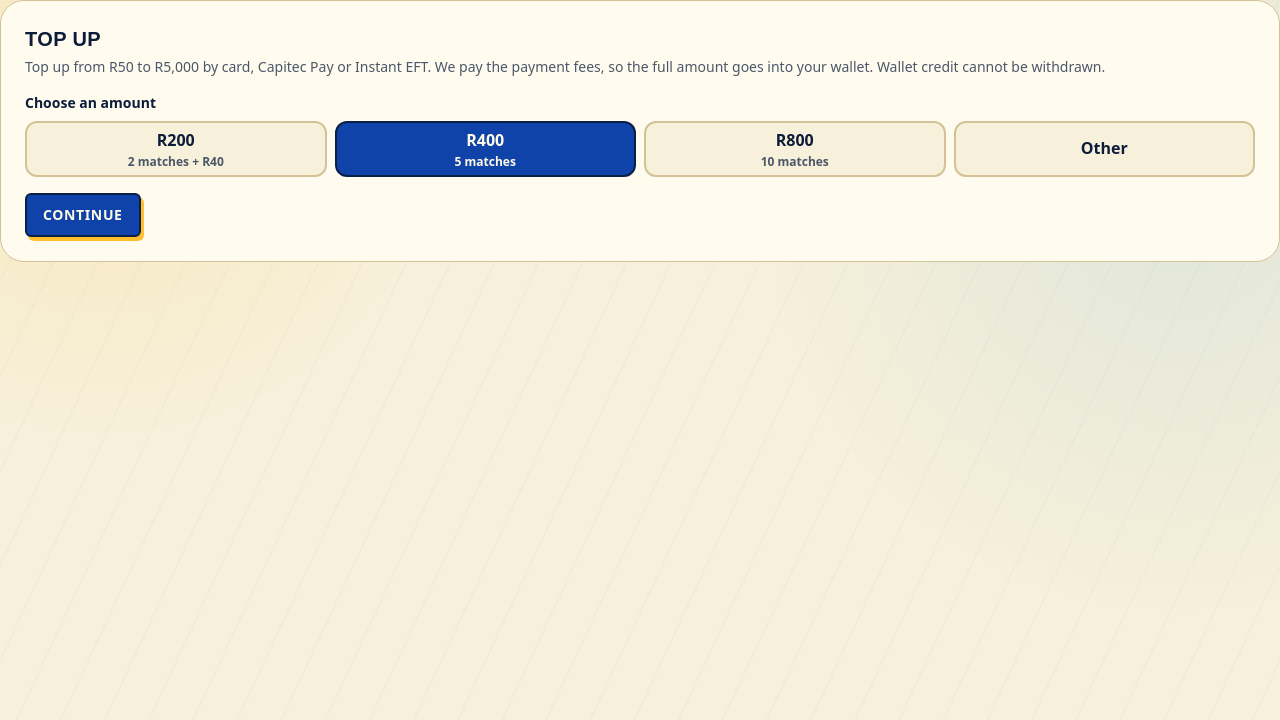
Test case: TopUpForm › rejects a custom amount of 49
This screenshot has width=1280, height=720.
Click the button "Other". click: (1104, 149)
box: x1=954 y1=121 x2=1255 y2=177
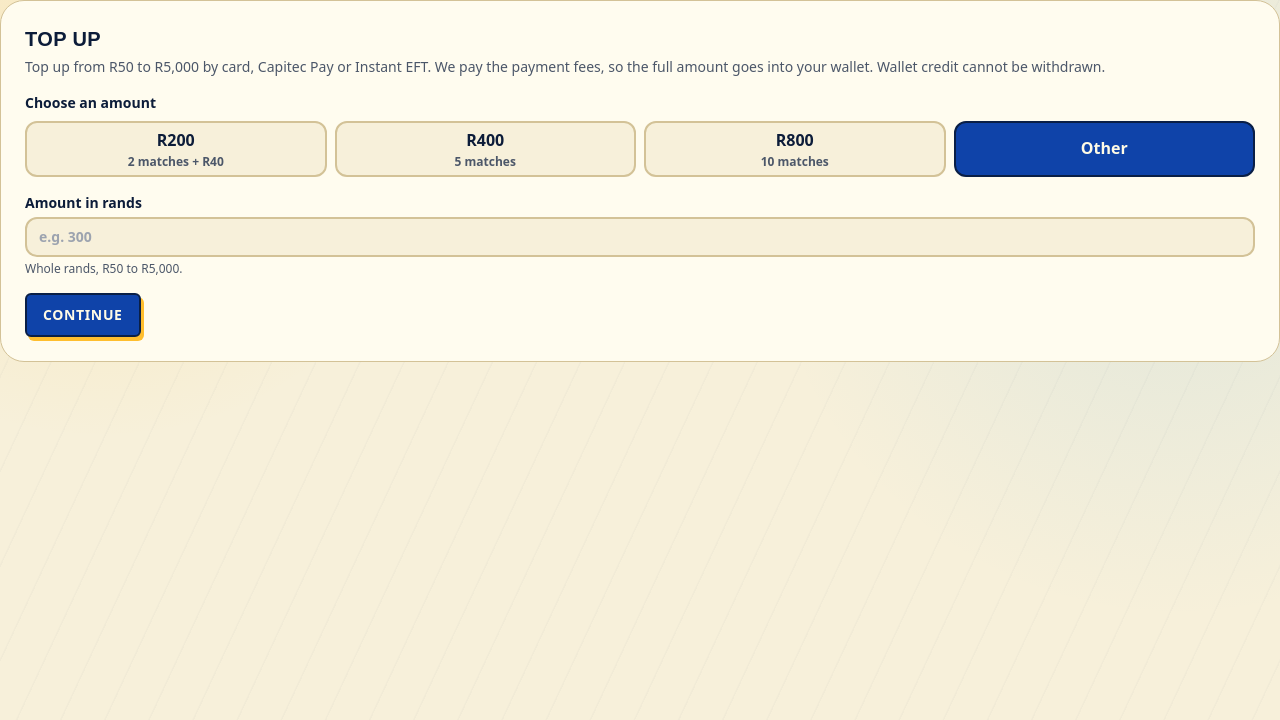
Type "49" into the field labelled "Amount in rands Whole rands, R50 to R5,000.". click: (640, 237)
box: x1=25 y1=217 x2=1255 y2=257
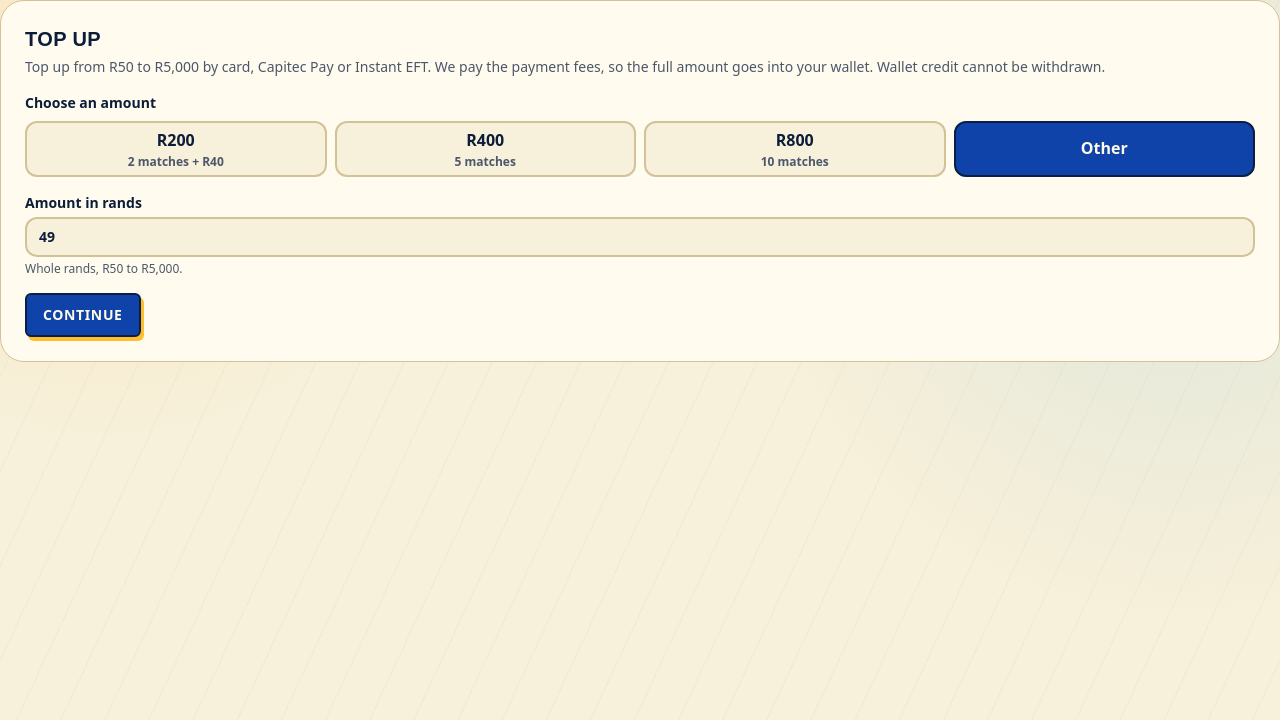
Click the button "Continue". click: (83, 315)
box: x1=25 y1=293 x2=141 y2=337
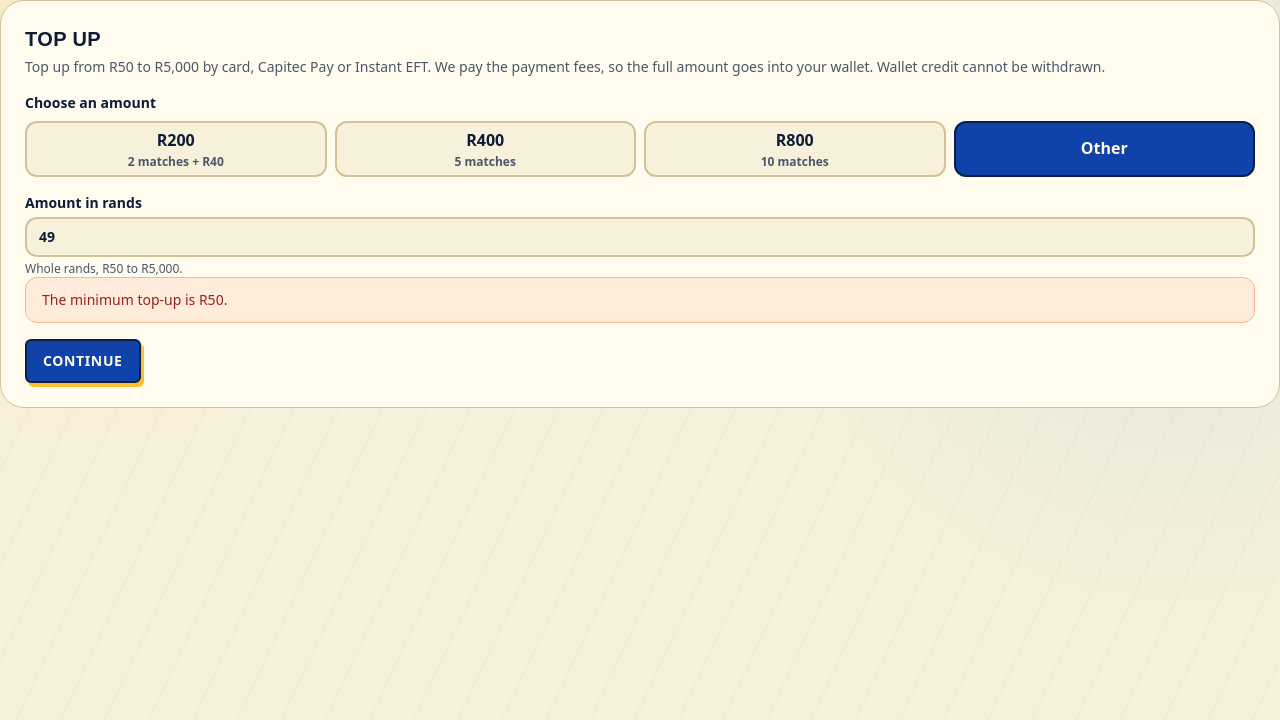
Check: the message reads "The minimum top-up is R50.", box x1=42 y1=290 x2=227 y2=309
